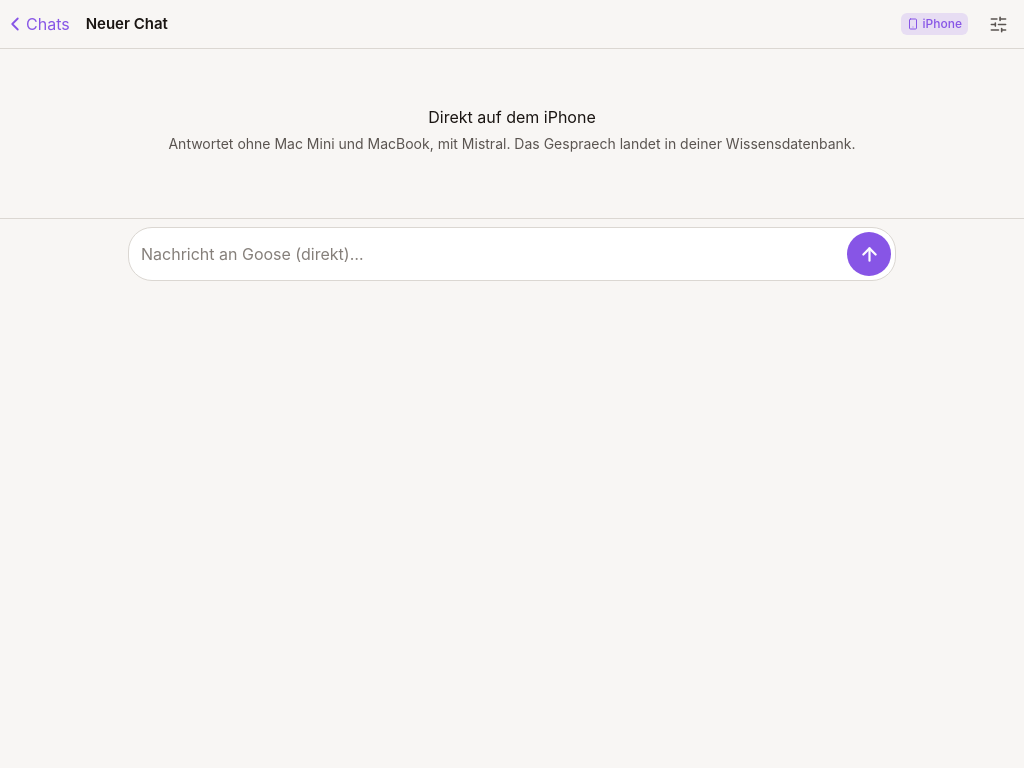
Test case: Direkt-Chat-Ansicht › leerer Chat erklaert sich; Frage und gestroemte Antwort erscheinen
Check: the text "Direkt auf dem iPhone" is shown, box left=428, top=107, right=596, bottom=127
Step 1. Type "Hi" into the text box with id "direkt-input" → {"x": 492, "y": 254}, box left=141, top=232, right=843, bottom=276
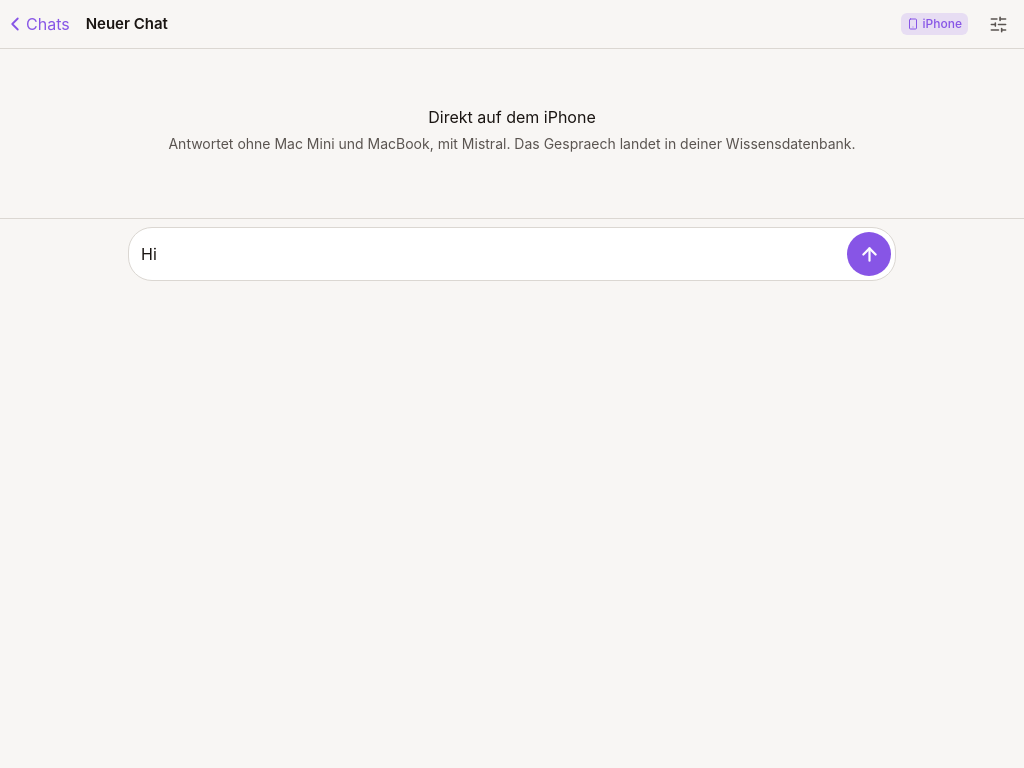
Step 2. Submit the form with id "direkt-form", box left=0, top=218, right=1023, bottom=289
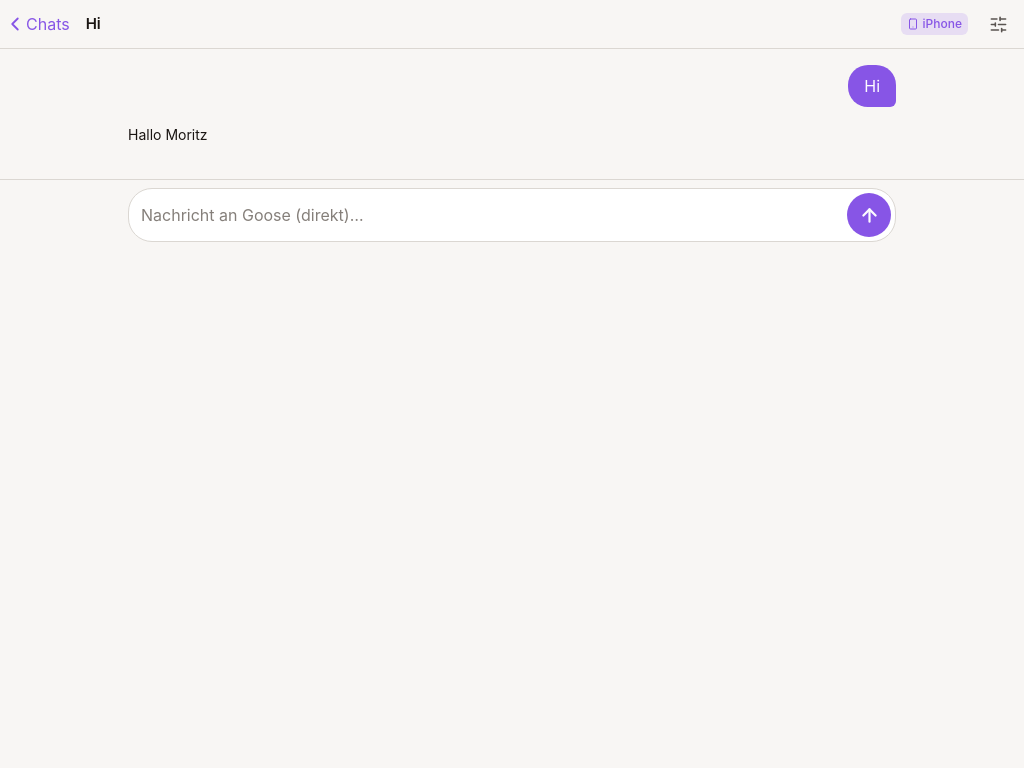
Check: the number of elements with class "agent" is 1, box left=128, top=126, right=208, bottom=143
Check: the element with class "user" reads "Hi", box left=864, top=76, right=880, bottom=96
Check: the element with class "agent" reads "Hallo Moritz", box left=128, top=126, right=208, bottom=143
